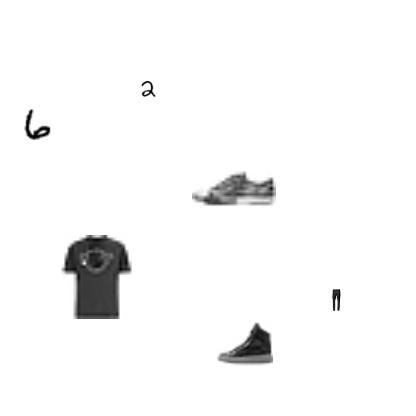2: (137, 78, 159, 100)
6: (14, 108, 56, 150)
Sneaker: (192, 145, 276, 229), (217, 315, 273, 371)
T-shirt/top: (53, 235, 137, 319)
Trouser: (325, 289, 347, 311)
